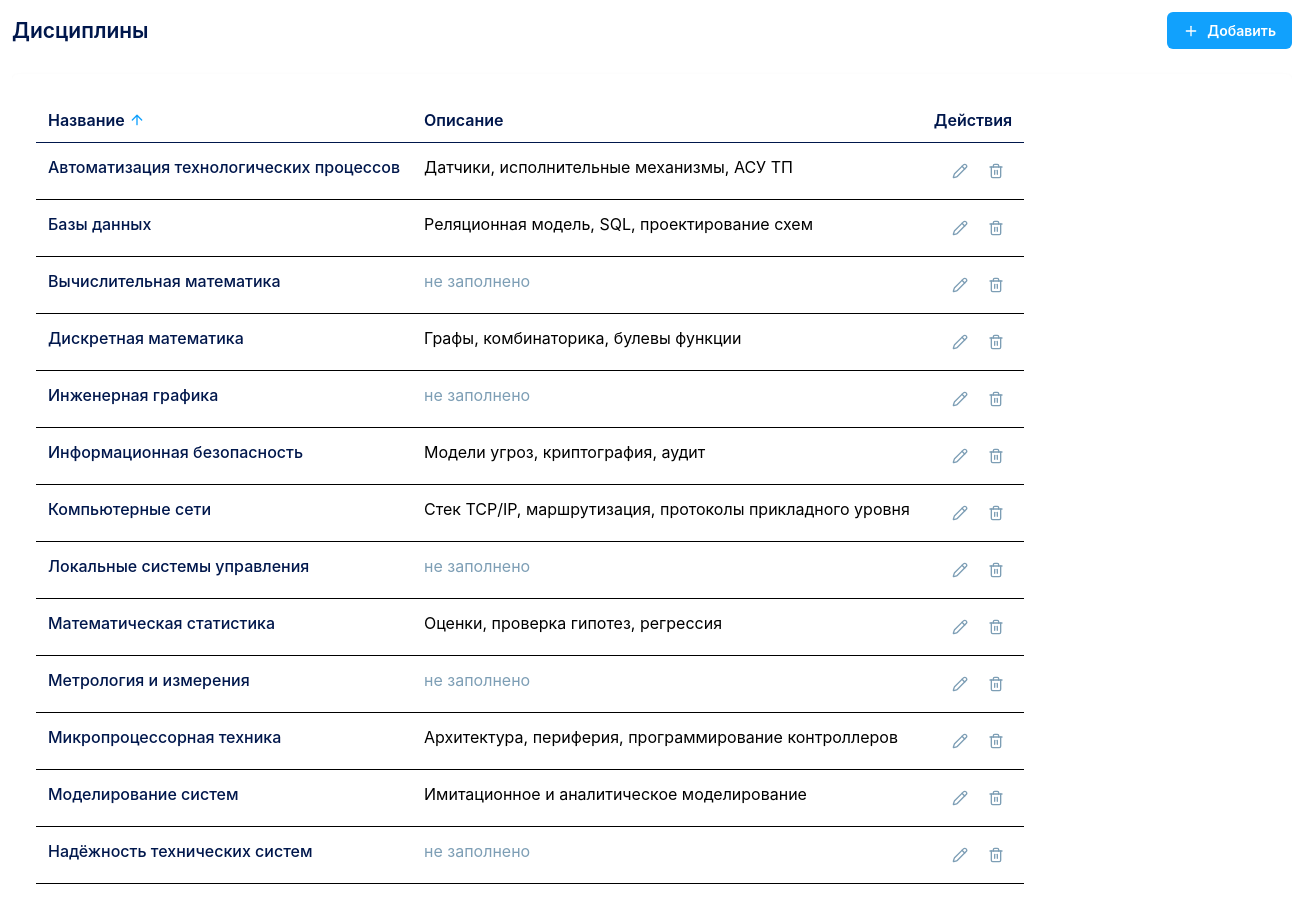
it: SubjectsPage, список › меняет порядок кликом по заголовку
This screenshot has width=1304, height=897.
Click the button "Название".
click(96, 120)  # box [48,108,145,132]
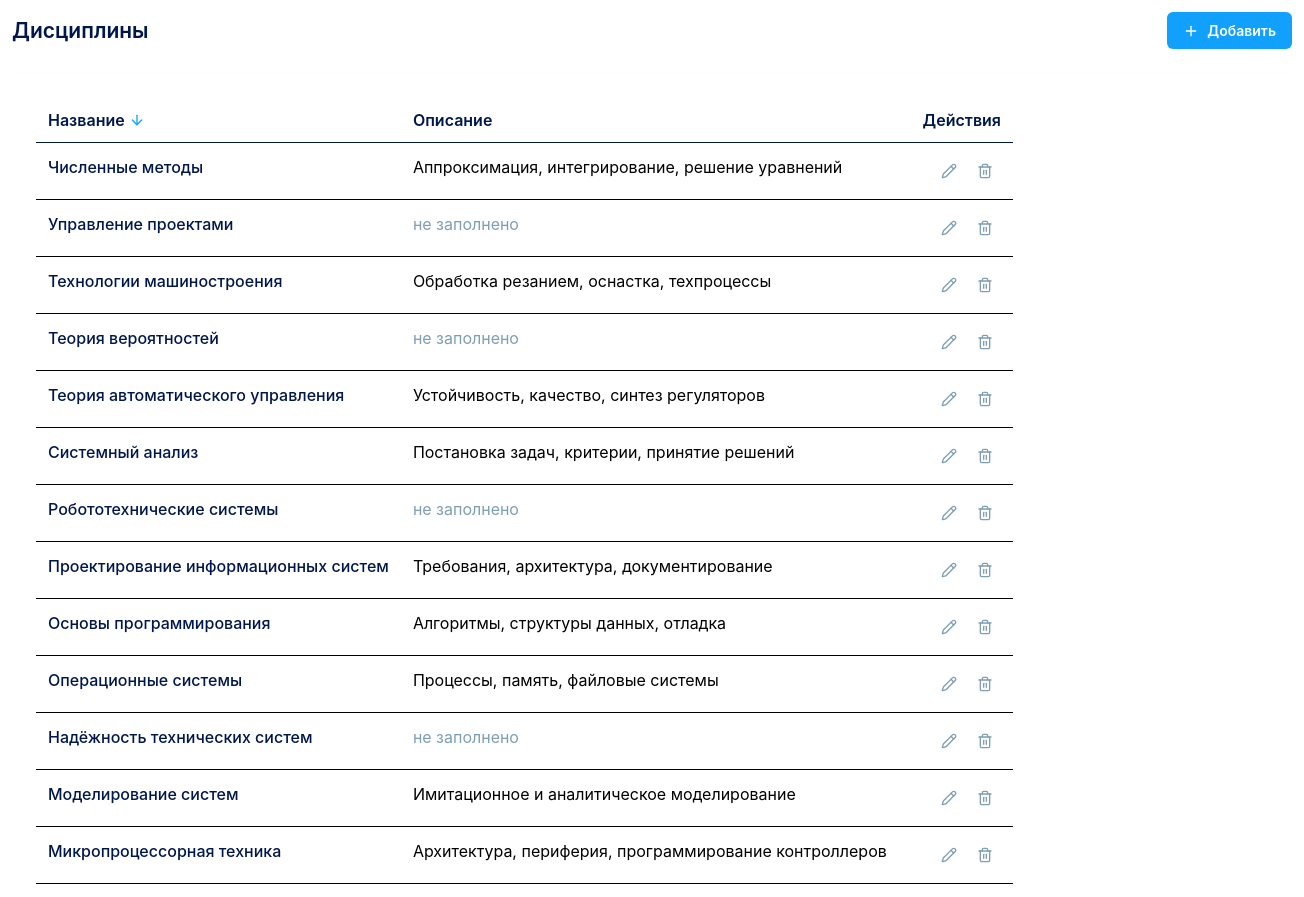
Expected: the cell "Численные методы" is shown, [36,142,401,200]
